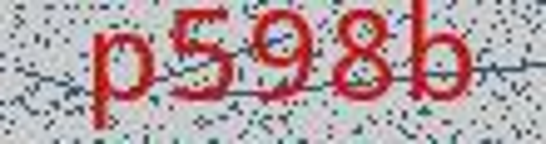5: (164, 3, 244, 107)
8: (324, 1, 401, 112)
9: (249, 3, 316, 108)
b: (403, 2, 477, 106)
p: (78, 22, 159, 144)
